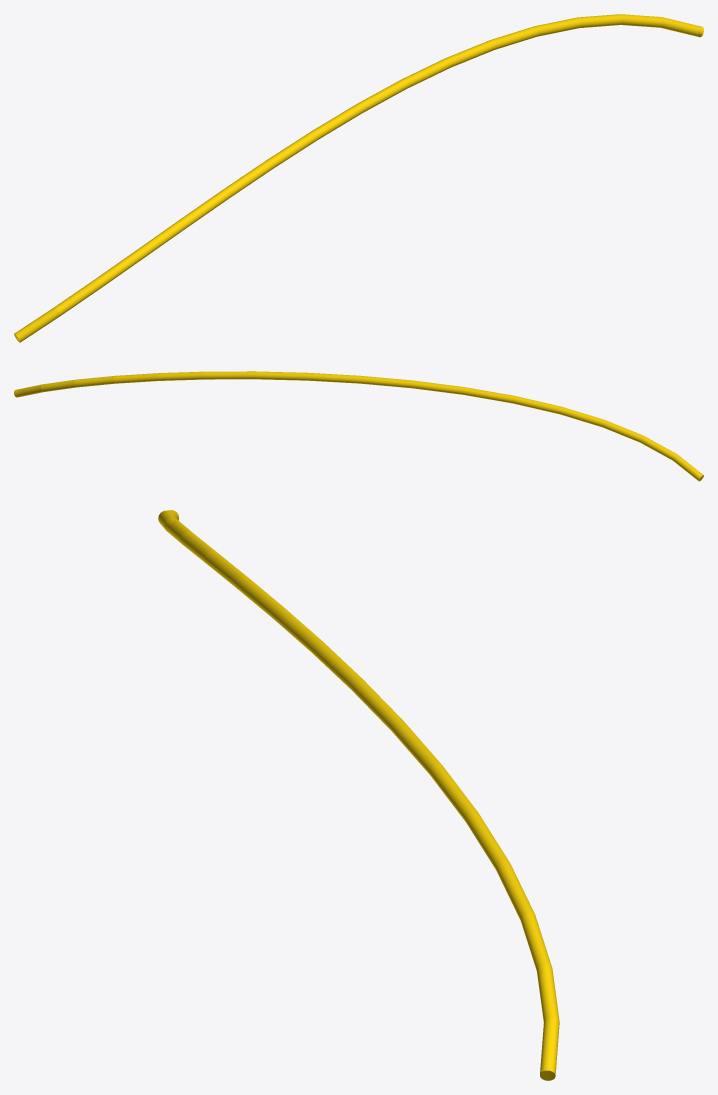
Rendered from Event_421278790_track_27.fbx.
3 views of the same model, one above another, from view 1: azimuth 30°, elevation 25°; view 2: azimuth 150°, elevation 25°; view 3: azimuth 270°, elevation 25° (orthographic). The views are drawn at different scales.
Parts seen in each view (by area): view 1: Model; view 2: Model; view 3: Model.
Part boxes in pixels (x1,y1,x2,y2): Model: [14, 14, 703, 342]; Model: [14, 371, 703, 481]; Model: [158, 510, 559, 1080].
Bounding box in the file's own units: 3.47 × 0.3769 × 1.02.
